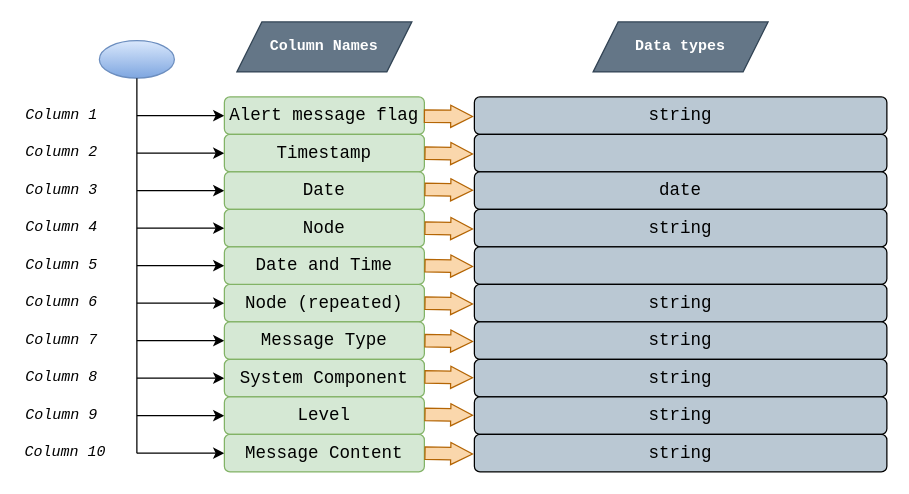
Some shapes in this 909 by 494 pixel diagram are drawn without their labels. Here are the shapes that lost their labels. From the top down, the centre of each, then its label:
point (136, 58): root
point (680, 152): integer
point (680, 265): timestamp [yyyy-MM-dd-HH.mm.ss.SSSSSS
